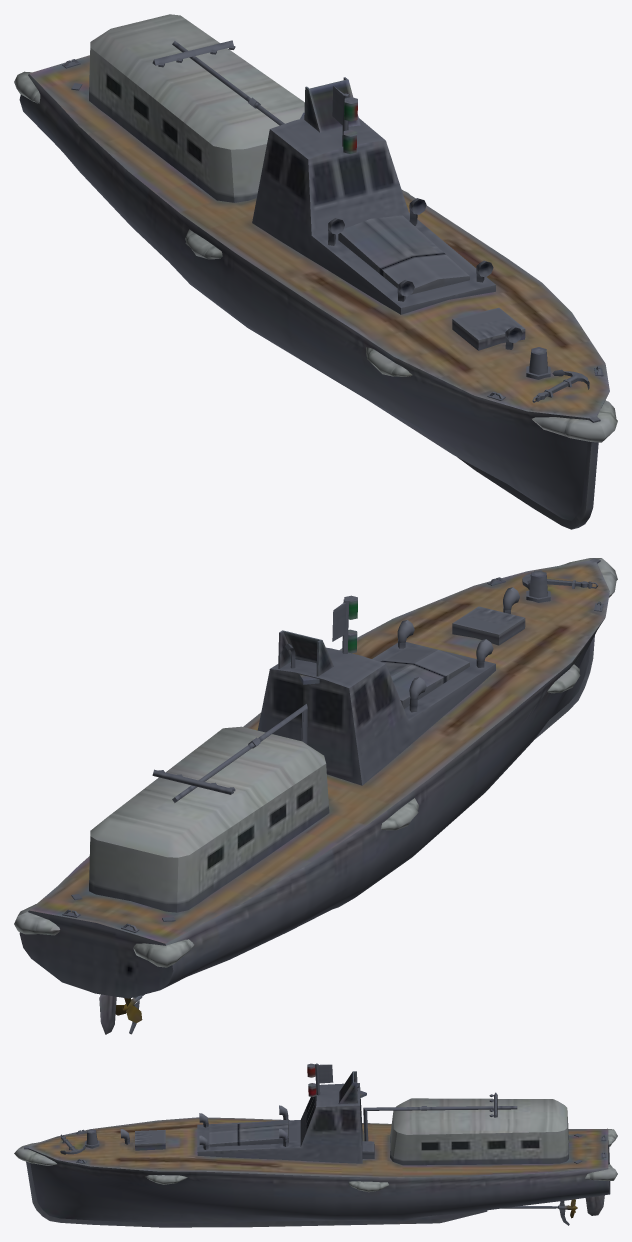
The model's file is boat1.glb.
The picture shows the model from 3 angles, top to bottom: view 1: azimuth 30°, elevation 25°; view 2: azimuth 150°, elevation 25°; view 3: azimuth 270°, elevation 25°; orthographic projection. The views are drawn at different scales.
Visible parts, largest first — view 1: jtc; view 2: jtc; view 3: jtc.
Part boxes in pixels (x1,y1,x2,y2): jtc: [14, 14, 617, 529]; jtc: [14, 558, 617, 1034]; jtc: [14, 1063, 617, 1227].
Size of the model in its own units: 2.02 by 2.46 by 8.28.
Materials: 1 (1 with a texture image).
